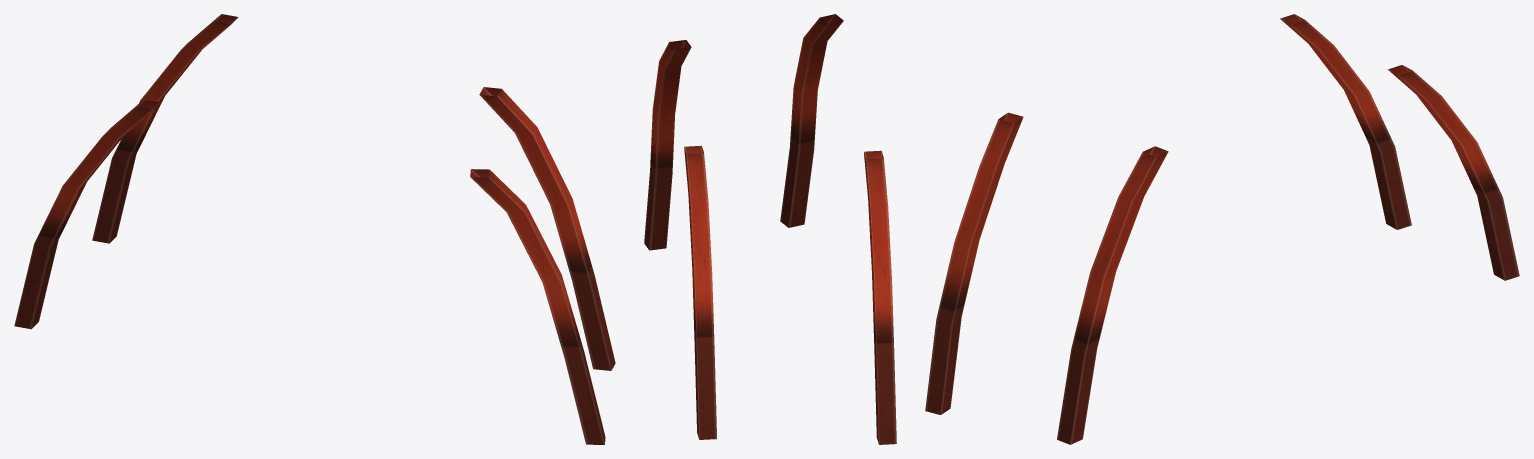
File: track_chinese_env_roadbeams_02.fbx
The picture shows the model from 3 angles, left to right: view 1: azimuth 30°, elevation 25°; view 2: azimuth 150°, elevation 25°; view 3: azimuth 270°, elevation 25°; orthographic projection. The views are drawn at different scales.
Visible parts, largest first — view 1: track_chinese_roadbeams_02; view 2: track_chinese_roadbeams_02; view 3: track_chinese_roadbeams_02.
Part boxes in pixels (left/top/right/bottom): track_chinese_roadbeams_02: left=14, top=14, right=615, bottom=444; track_chinese_roadbeams_02: left=644, top=14, right=896, bottom=444; track_chinese_roadbeams_02: left=925, top=14, right=1519, bottom=444.
Bounding box in the file's own units: 53.17 × 33.04 × 64.55.
